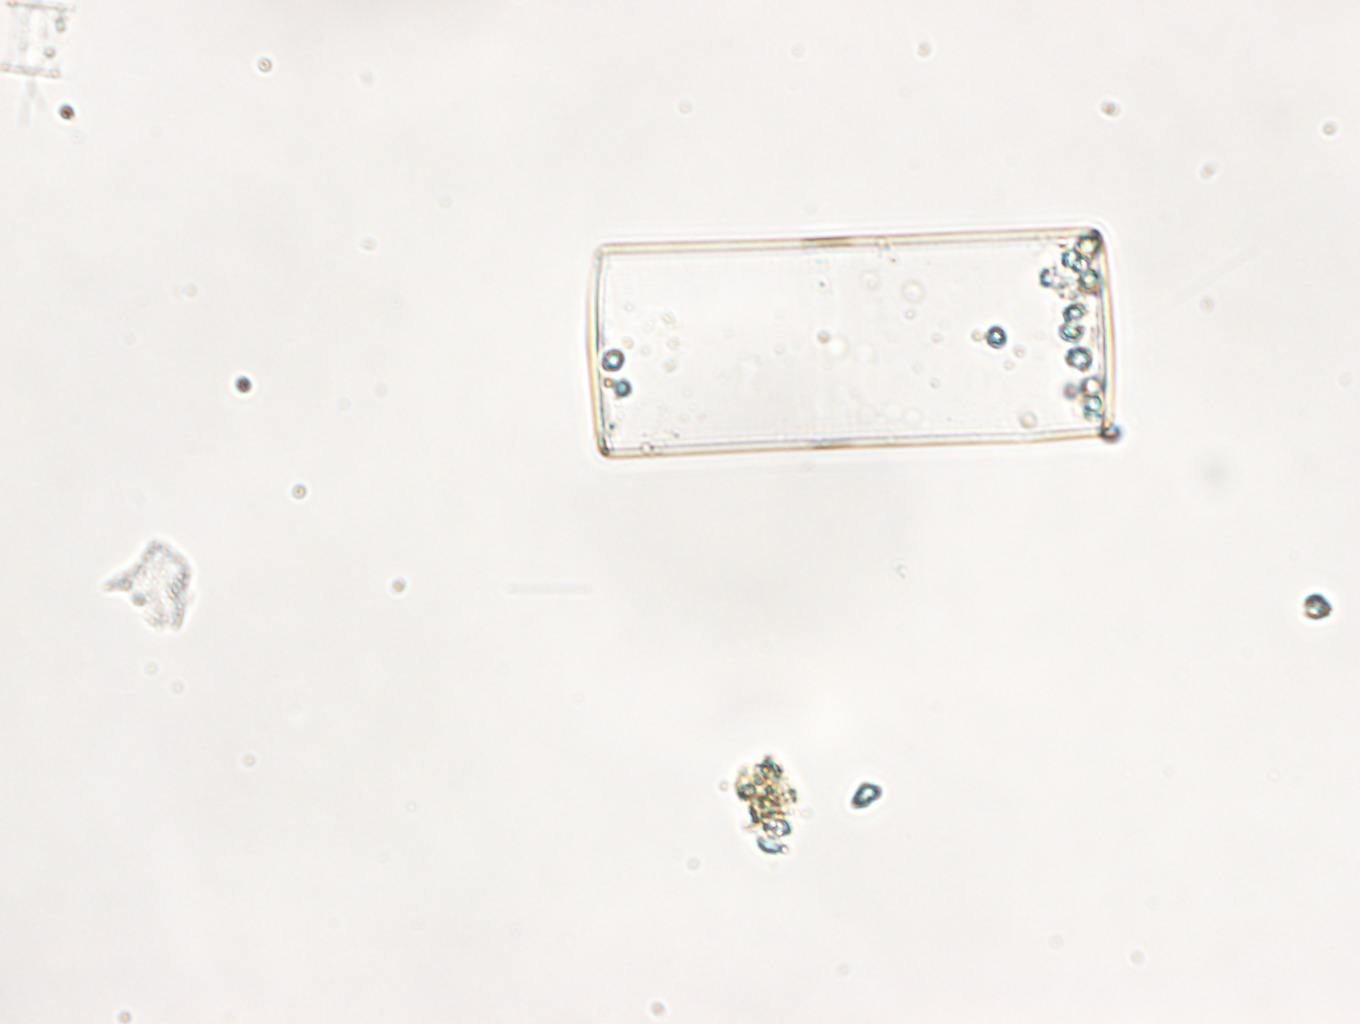guinardia flaccida: (584, 221, 1117, 463)
